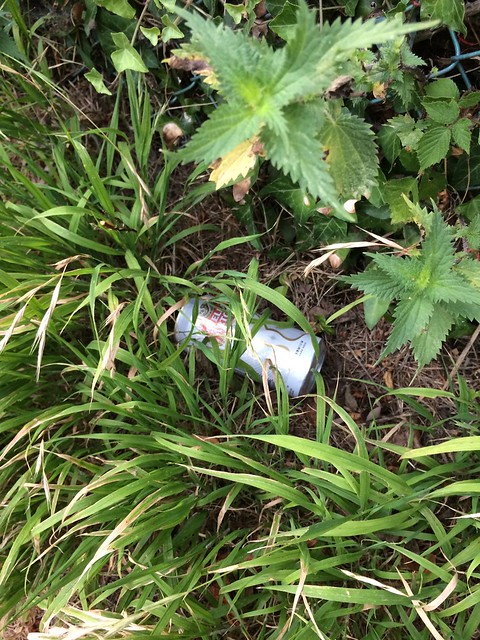can: (175, 281, 327, 395)
